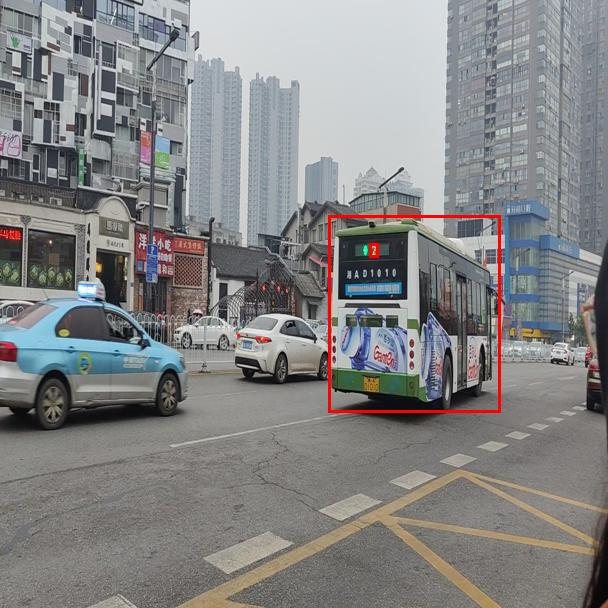bus: (328, 215, 500, 412)
screen: (369, 243, 378, 257)
